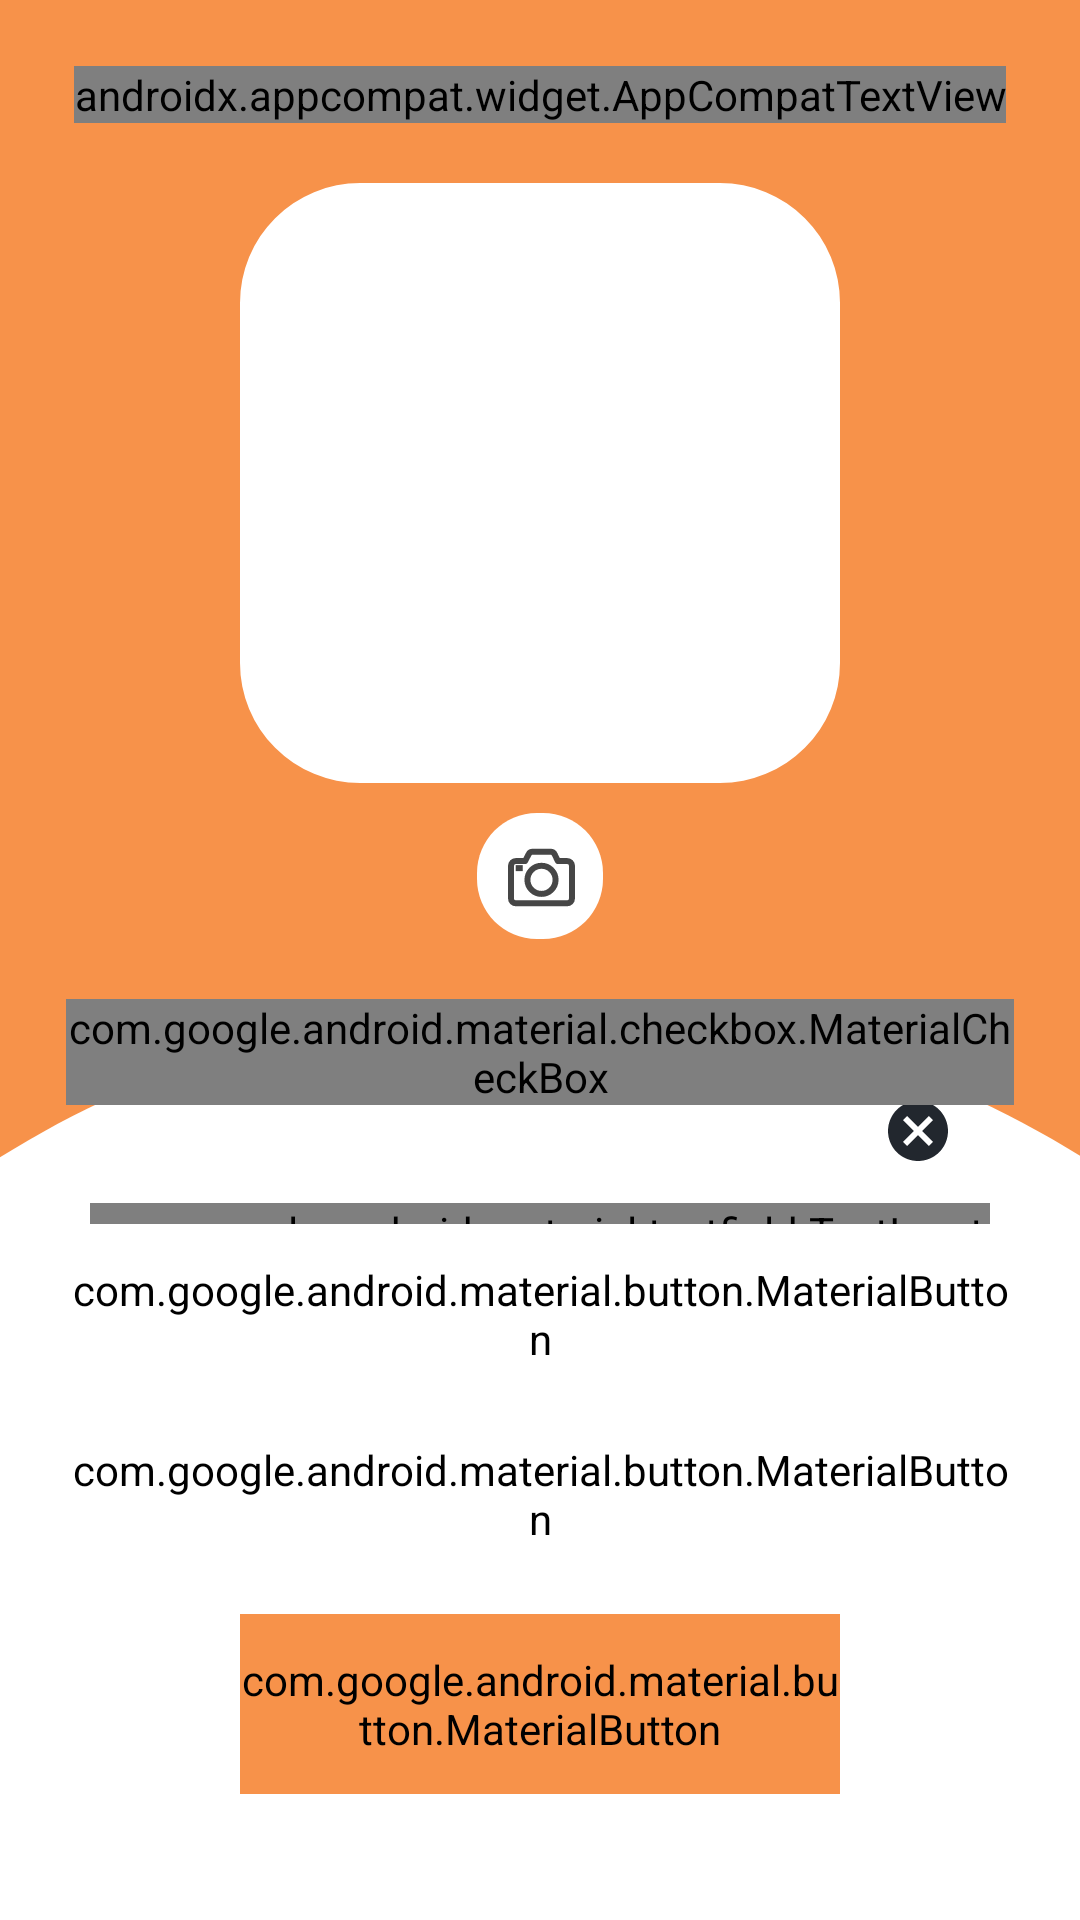

Where to tap for icons on this 1080 x 1920 app screen, as (x=x, y=y):
photo: (x=540, y=876)
